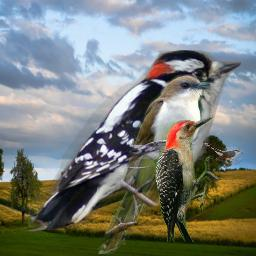Cuckoo: (97, 72, 210, 254), (203, 140, 243, 165)
Woodpecker: (27, 50, 241, 230), (155, 117, 222, 242)
